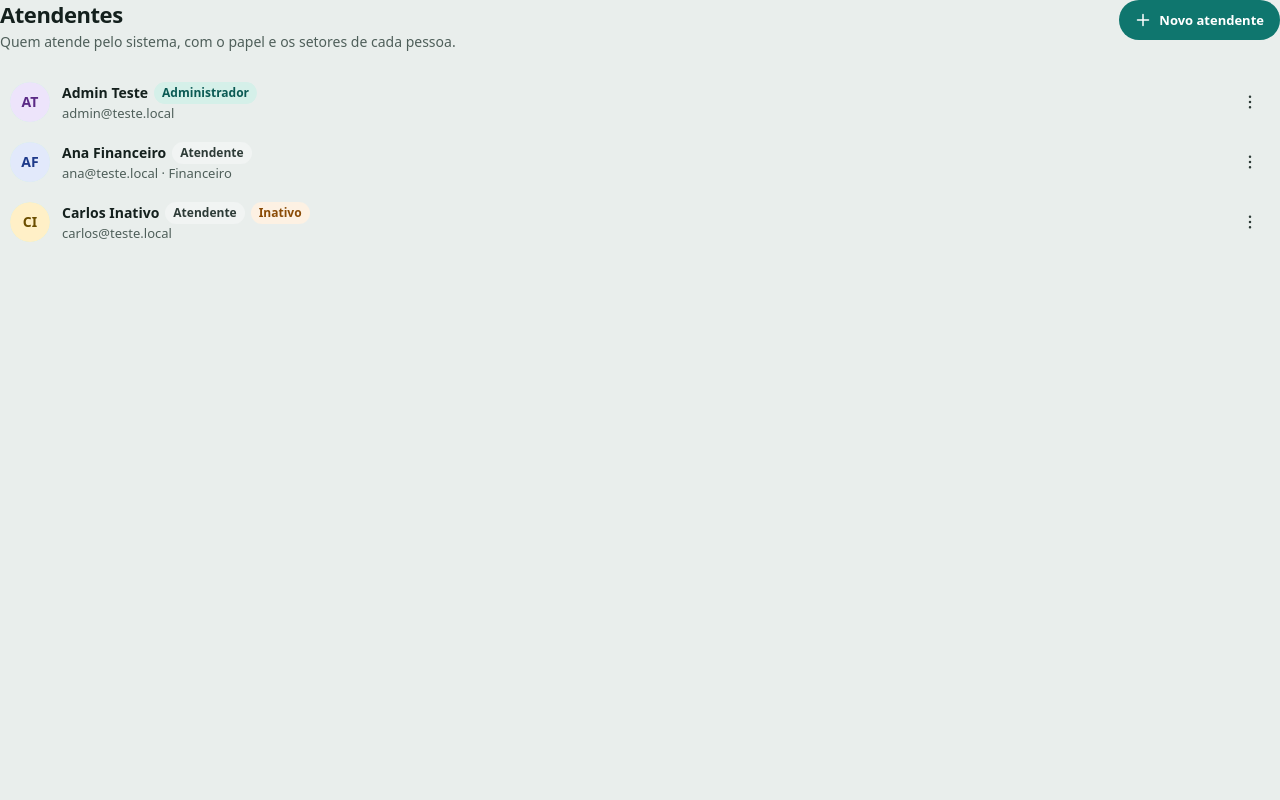
Scenario: Settings › Atendentes › edits a person in a dialog and sends the same body as before
Click the button named "Opções do atendente Ana Financeiro": (1250, 162) [1230,142,1270,182]
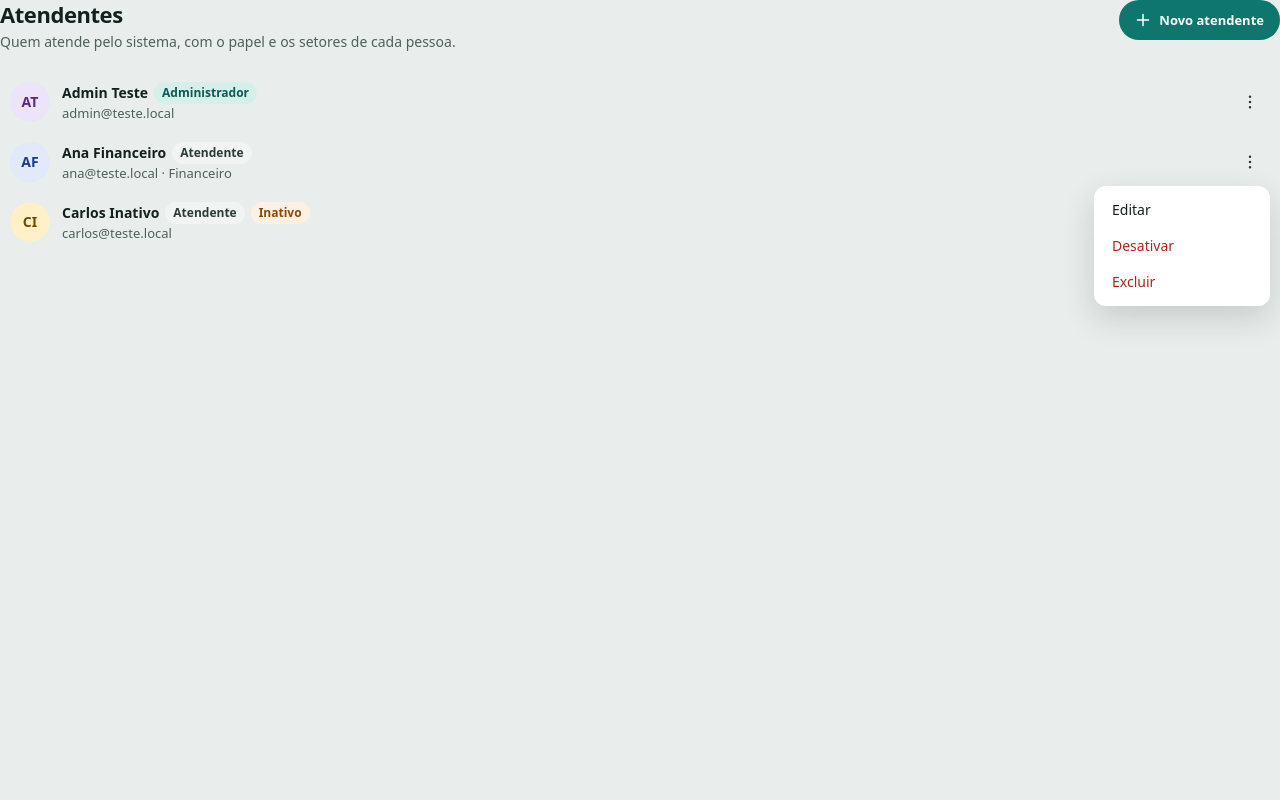
Click the button "Editar": (1182, 210) [1100,192,1264,228]
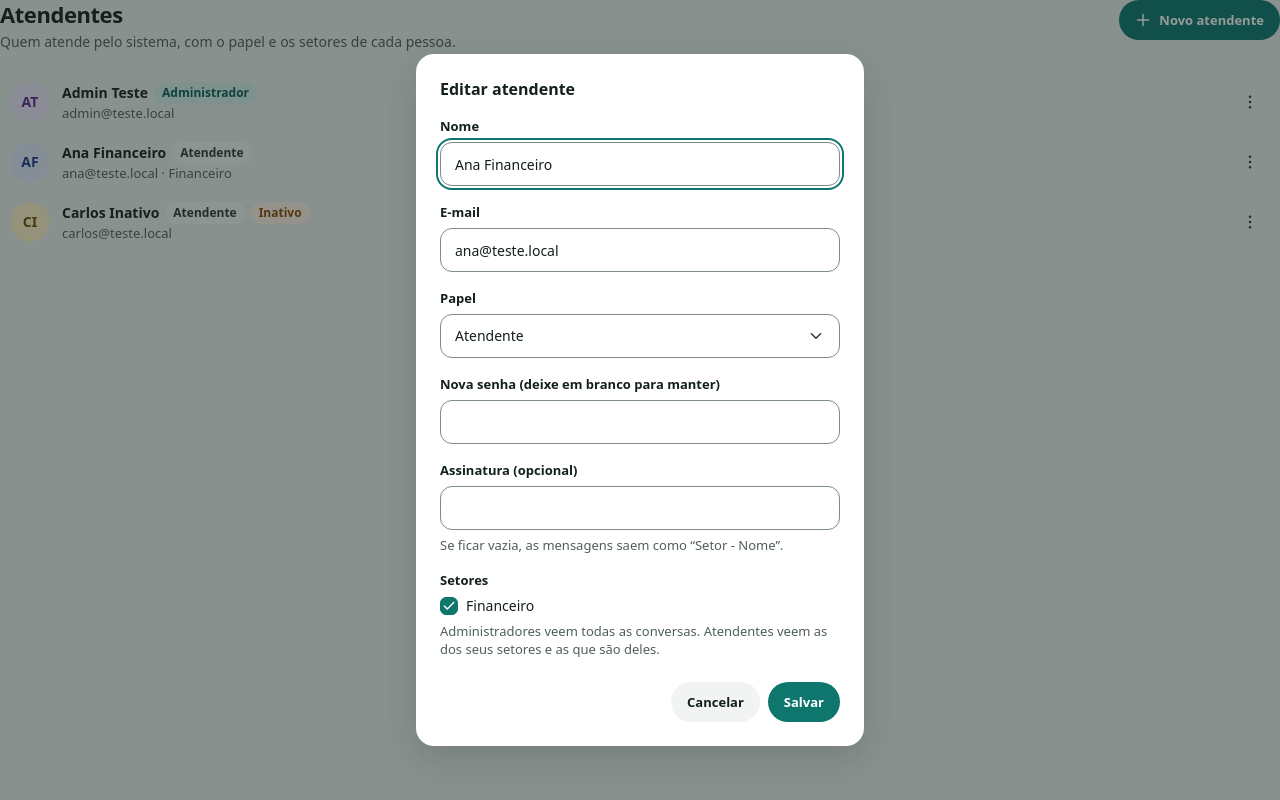
Replace the text in the field labelled "Nome" with " Ana Souza ": (640, 164) [440,142,840,186]
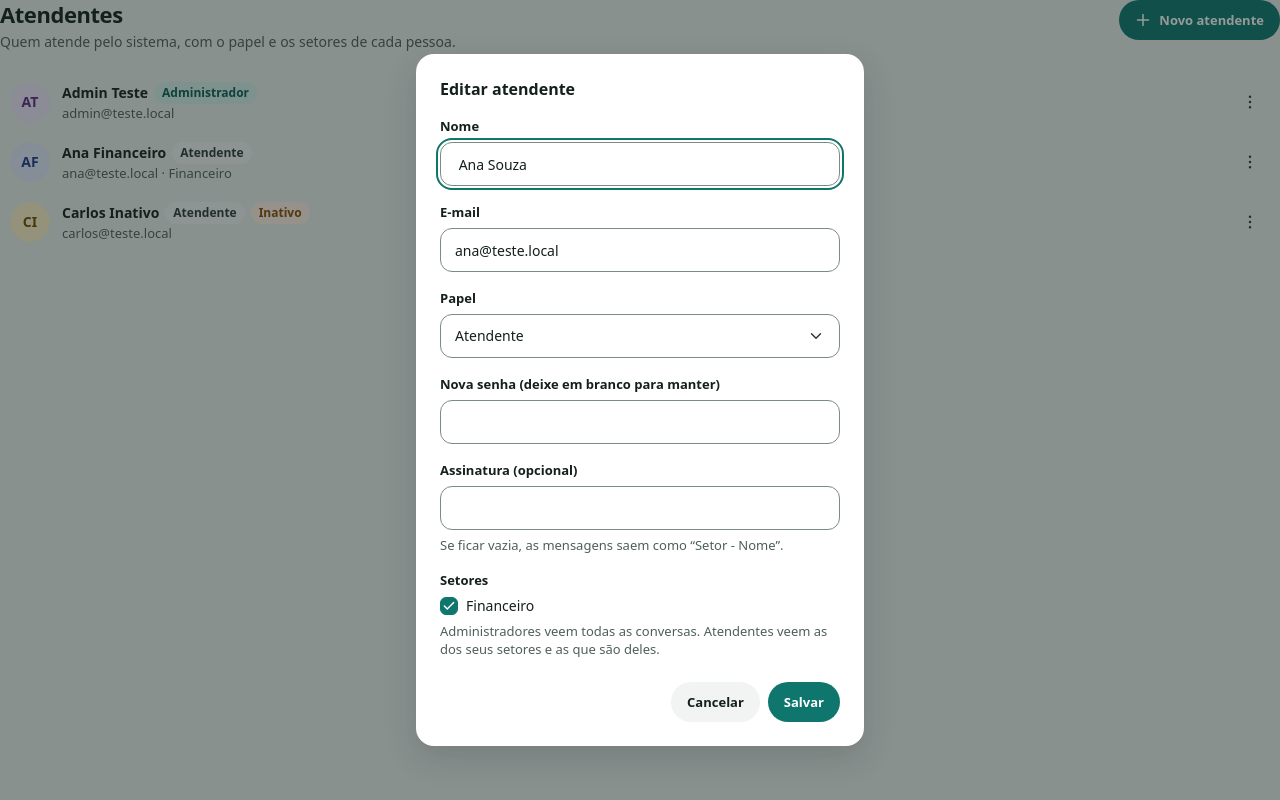
Replace the text in the field labelled "E-mail" with "ANA@teste.local": (640, 250) [440,228,840,272]
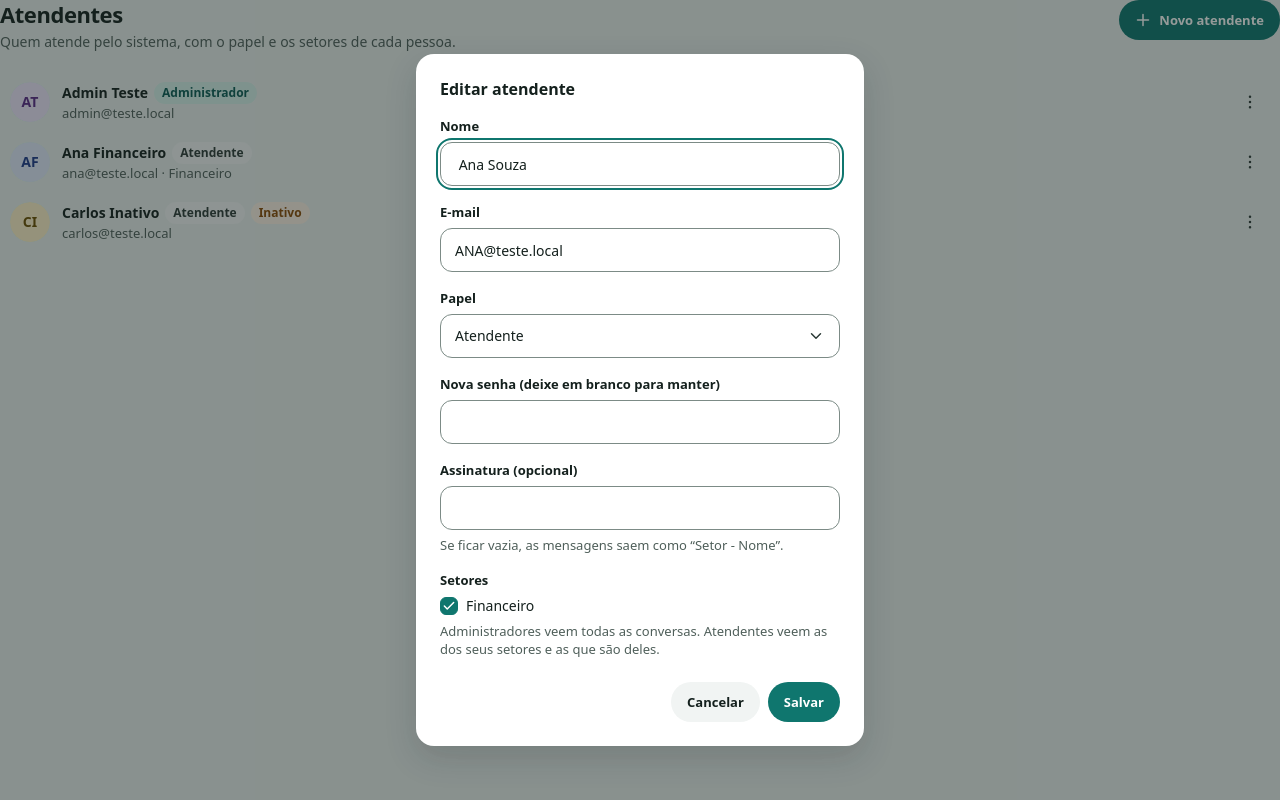
Click the button "Salvar": (804, 702) [768,682,840,722]
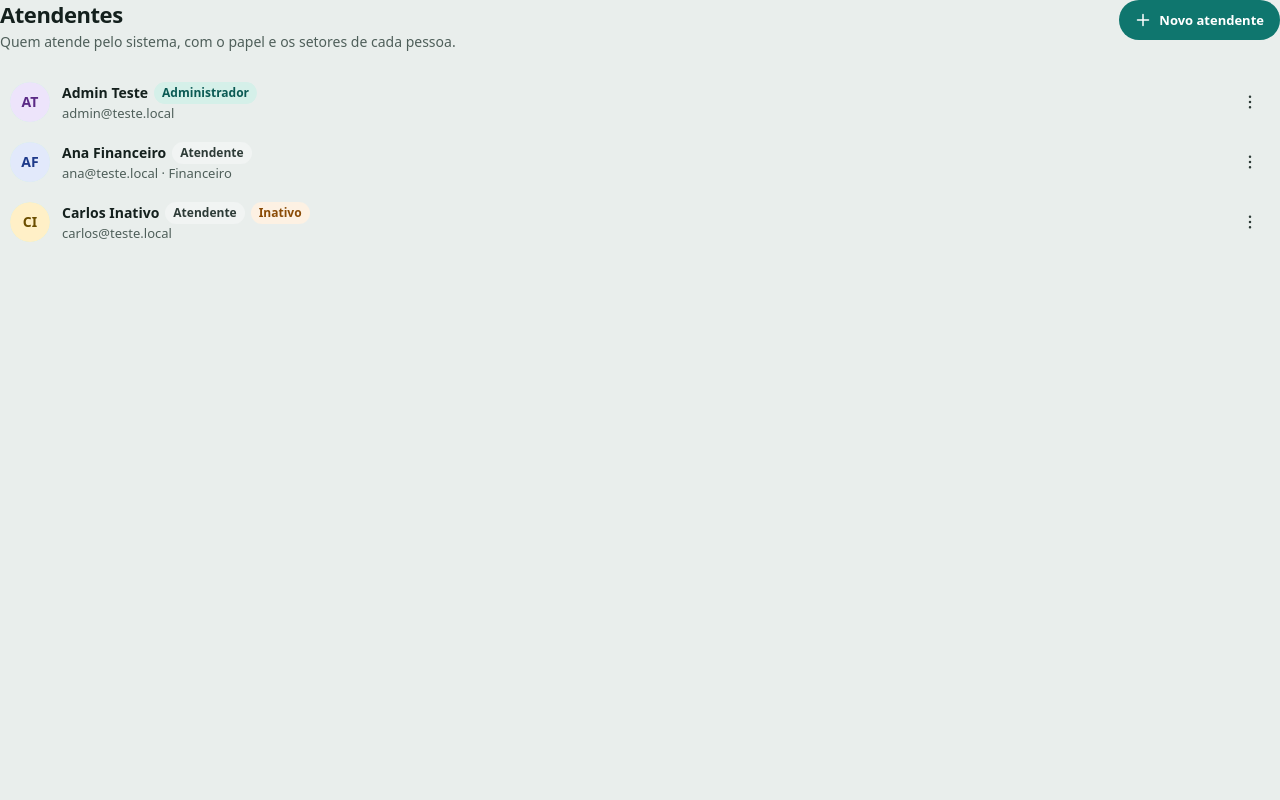
Expected: the dialog is gone
